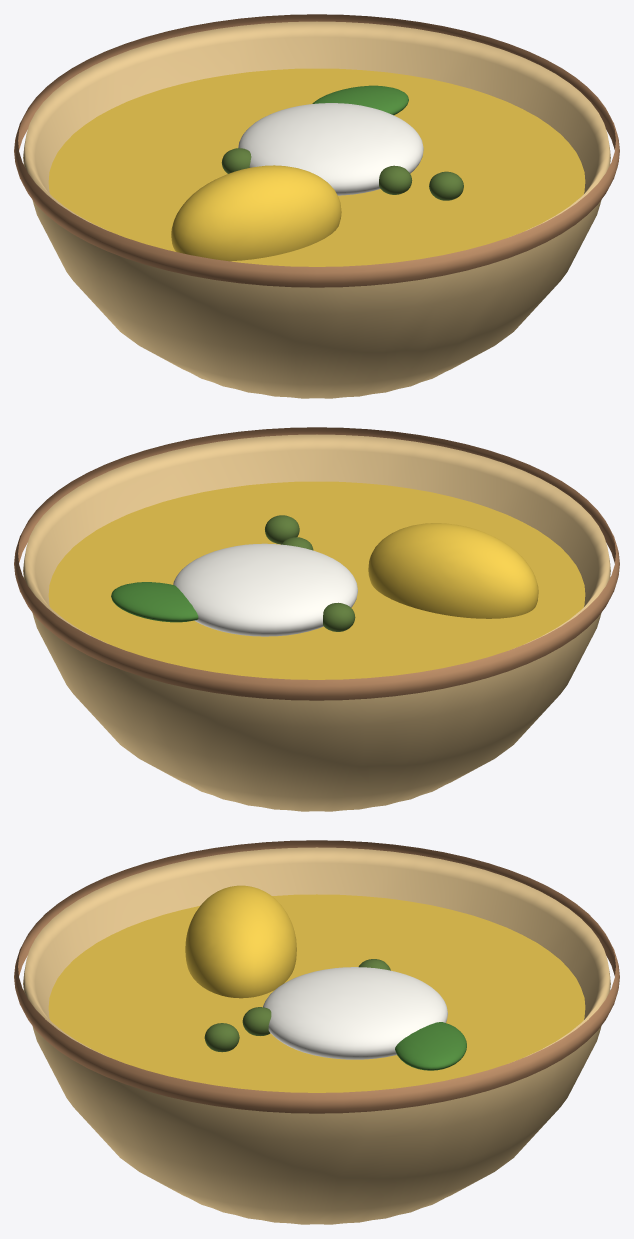
Rendered from comida_ajiaco.glb.
3 views of the same model, one above another, from view 1: azimuth 30°, elevation 25°; view 2: azimuth 150°, elevation 25°; view 3: azimuth 270°, elevation 25° (orthographic).
Parts seen in each view (by area): view 1: tazón.003, caldo.001, borde tazón.003, mazorca ajiaco.001, crema.002, guasca.001, alcaparra 0.001, alcaparra 1.001, alcaparra 4.001; view 2: tazón.003, caldo.001, borde tazón.003, crema.002, mazorca ajiaco.001, guasca.001, alcaparra 4.001, alcaparra 0.001; view 3: tazón.003, caldo.001, borde tazón.003, crema.002, mazorca ajiaco.001, guasca.001, alcaparra 0.001, alcaparra 1.001.
Part boxes in pixels (x1,y1,x2,y2): tazón.003: (23, 21, 610, 398); caldo.001: (48, 68, 585, 266); borde tazón.003: (14, 14, 619, 287); mazorca ajiaco.001: (171, 165, 341, 261); crema.002: (238, 103, 423, 195); guasca.001: (312, 85, 408, 115); alcaparra 0.001: (429, 171, 463, 200); alcaparra 1.001: (379, 165, 412, 194); alcaparra 4.001: (221, 148, 251, 173); tazón.003: (23, 434, 610, 811); caldo.001: (48, 481, 585, 679); borde tazón.003: (14, 427, 619, 700); crema.002: (173, 543, 357, 636); mazorca ajiaco.001: (368, 523, 538, 618); guasca.001: (111, 582, 198, 622); alcaparra 4.001: (323, 602, 355, 631); alcaparra 0.001: (265, 515, 299, 544); tazón.003: (23, 847, 610, 1224); caldo.001: (48, 894, 585, 1092); borde tazón.003: (14, 840, 619, 1113); crema.002: (263, 967, 447, 1059); mazorca ajiaco.001: (185, 885, 296, 998); guasca.001: (395, 1022, 466, 1070); alcaparra 0.001: (204, 1023, 239, 1052); alcaparra 1.001: (242, 1007, 271, 1035).
Size of the model in its own units: 0.3194 by 0.1314 by 0.3194.
